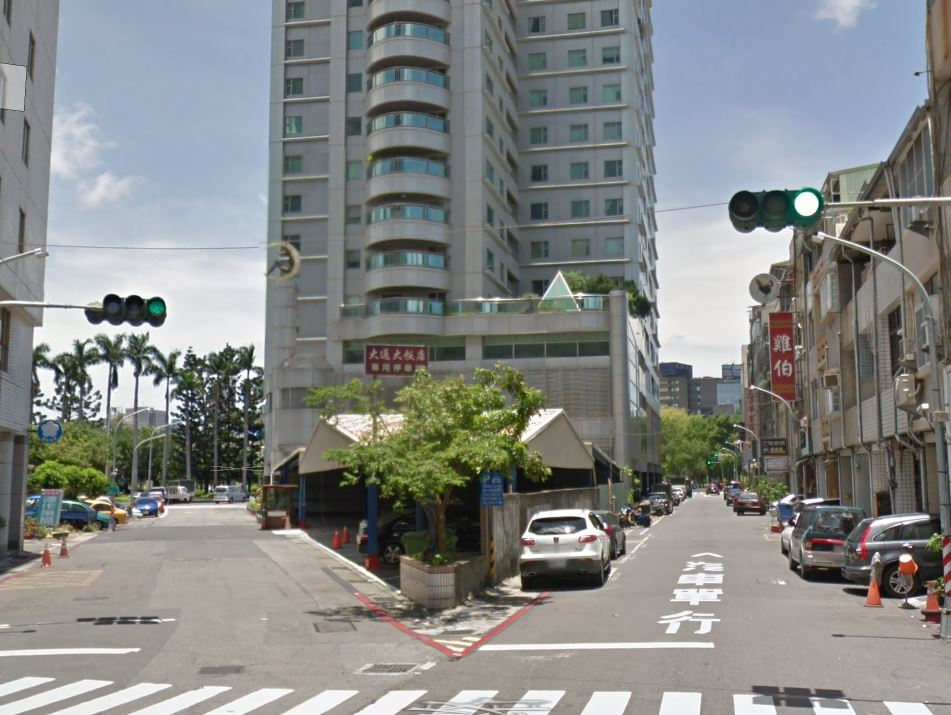Traffic_light_green: (728, 187, 823, 235), (102, 291, 167, 330)
car: (516, 504, 615, 592)
